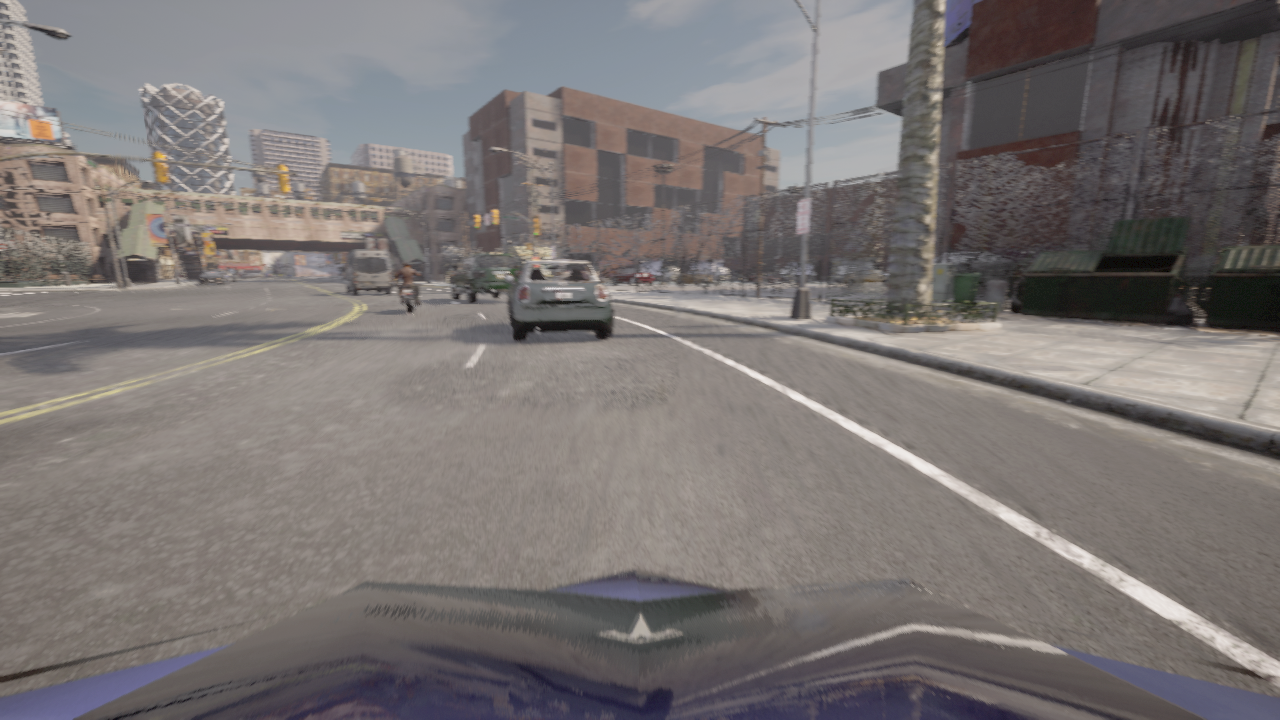cyclist: (0, 569, 1279, 719), (505, 260, 613, 340), (933, 251, 1016, 294), (450, 253, 520, 302), (341, 249, 392, 294), (398, 276, 420, 313), (641, 261, 679, 281), (611, 267, 653, 285), (691, 262, 729, 281), (843, 269, 887, 285), (837, 261, 872, 281), (780, 262, 814, 280), (674, 270, 710, 284), (200, 271, 226, 285), (745, 273, 781, 283), (209, 270, 229, 283), (391, 268, 398, 286), (225, 272, 236, 282), (178, 273, 185, 277), (342, 272, 344, 279), (272, 273, 274, 277), (265, 273, 267, 276), (269, 274, 270, 277)
